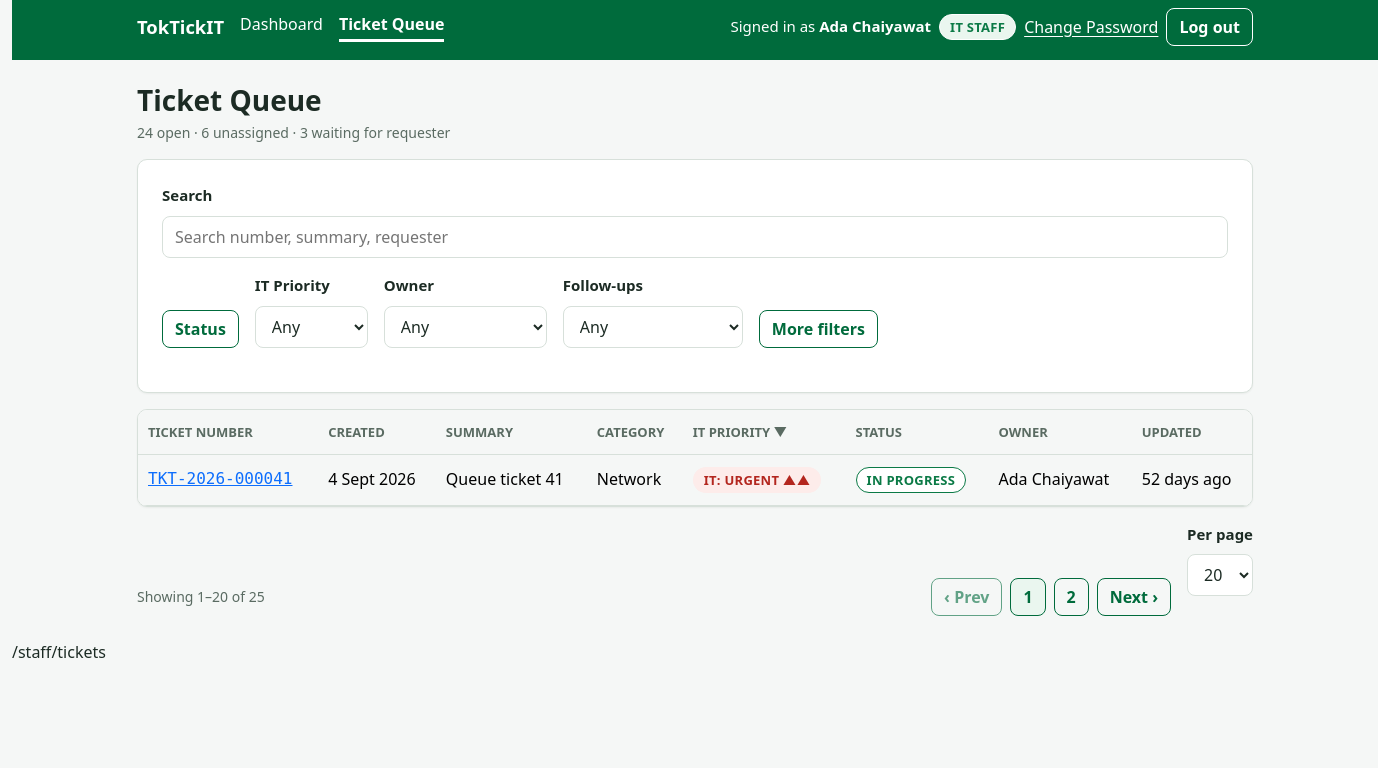
Test case: Queue states (ui-spec §7.5, FR-22) › keeps the previous page visible and busy while the next page loads
Expected: the table is shown, left=138, top=410, right=1252, bottom=506
Click the button named "Page 2": [1071, 597] box left=1054, top=578, right=1089, bottom=616
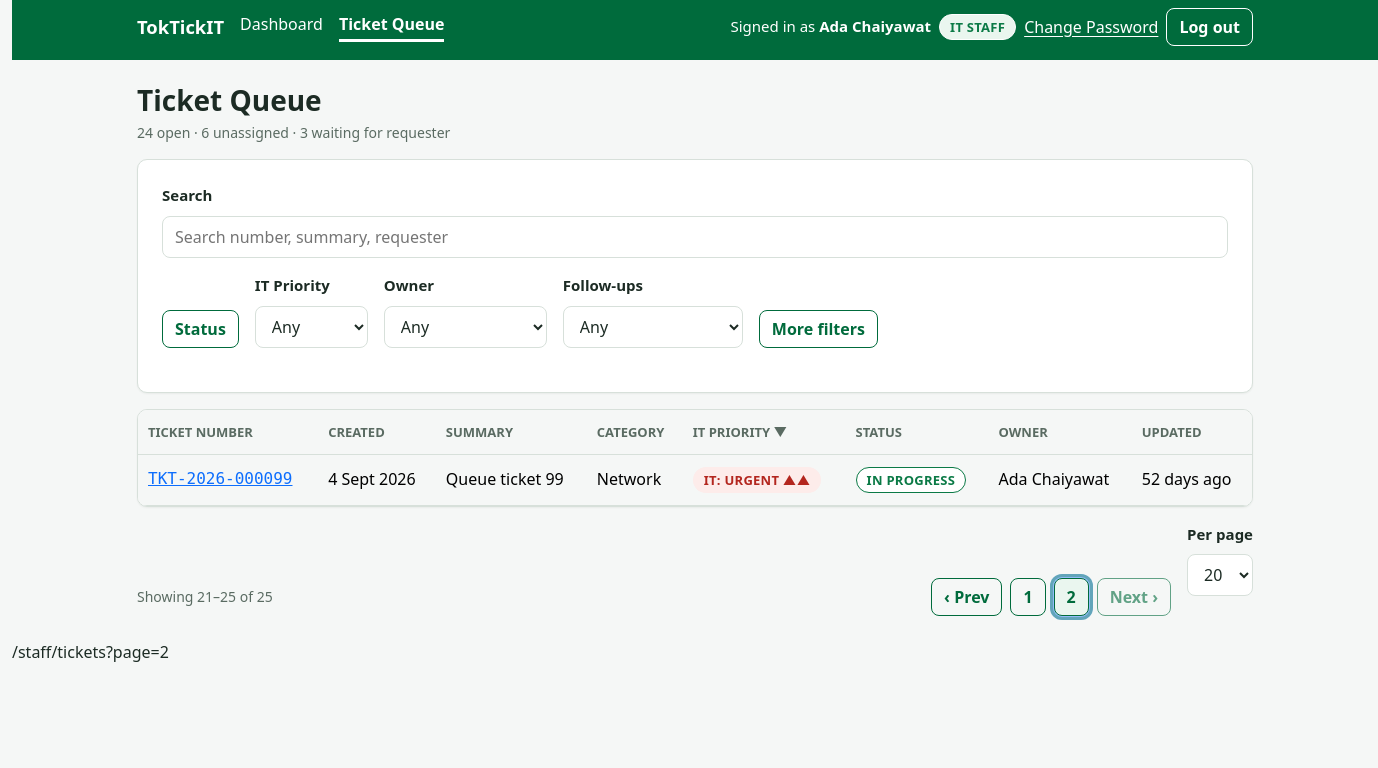
Expected: the element that starts with "Ticket Number" is shown, left=137, top=409, right=1253, bottom=507
Now the text "Queue ticket 99" is shown, box left=446, top=467, right=577, bottom=492
